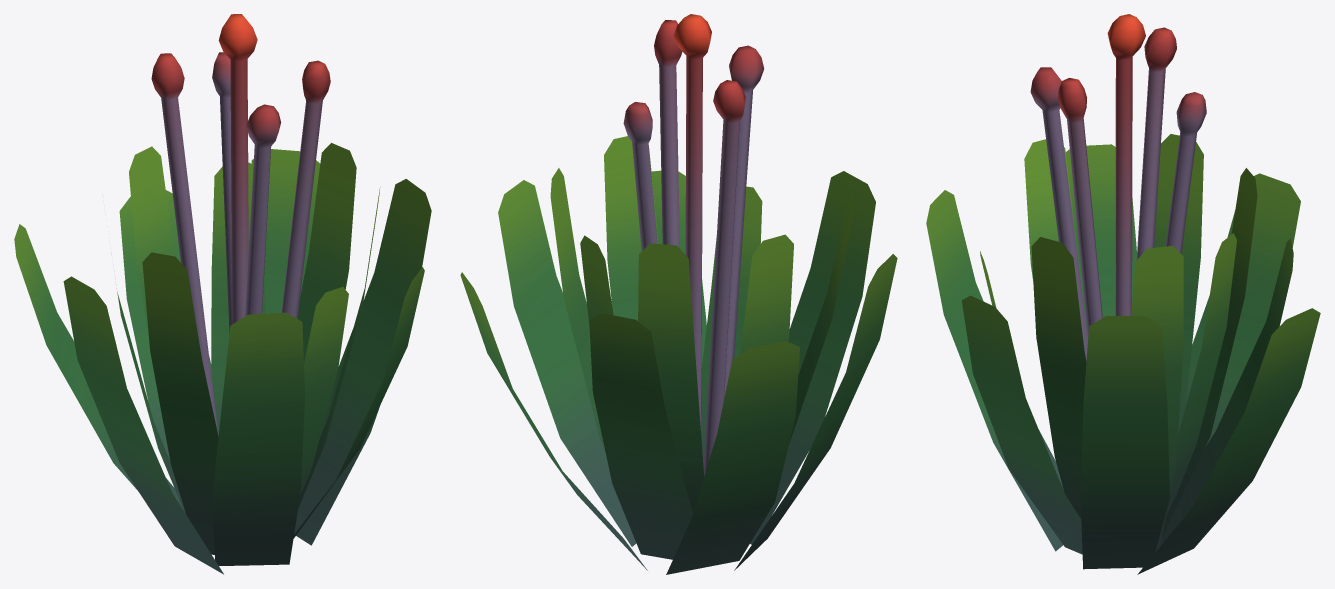
Rendered from flower_027_base_material_0.fbx.
3 renders of one model, left to right at view 1: azimuth 30°, elevation 25°; view 2: azimuth 150°, elevation 25°; view 3: azimuth 270°, elevation 25°, orthographic.
Parts seen in each view (by area): view 1: flower_027_base_material_0; view 2: flower_027_base_material_0; view 3: flower_027_base_material_0.
Boxes of the visible parts, x1,y1,x2,y2 form: flower_027_base_material_0: (14, 14, 431, 574); flower_027_base_material_0: (460, 14, 897, 574); flower_027_base_material_0: (926, 14, 1320, 574).
Size of the model in its own units: 1.93 by 1.88 by 2.76.
Materials: 1 (1 with a texture image).
